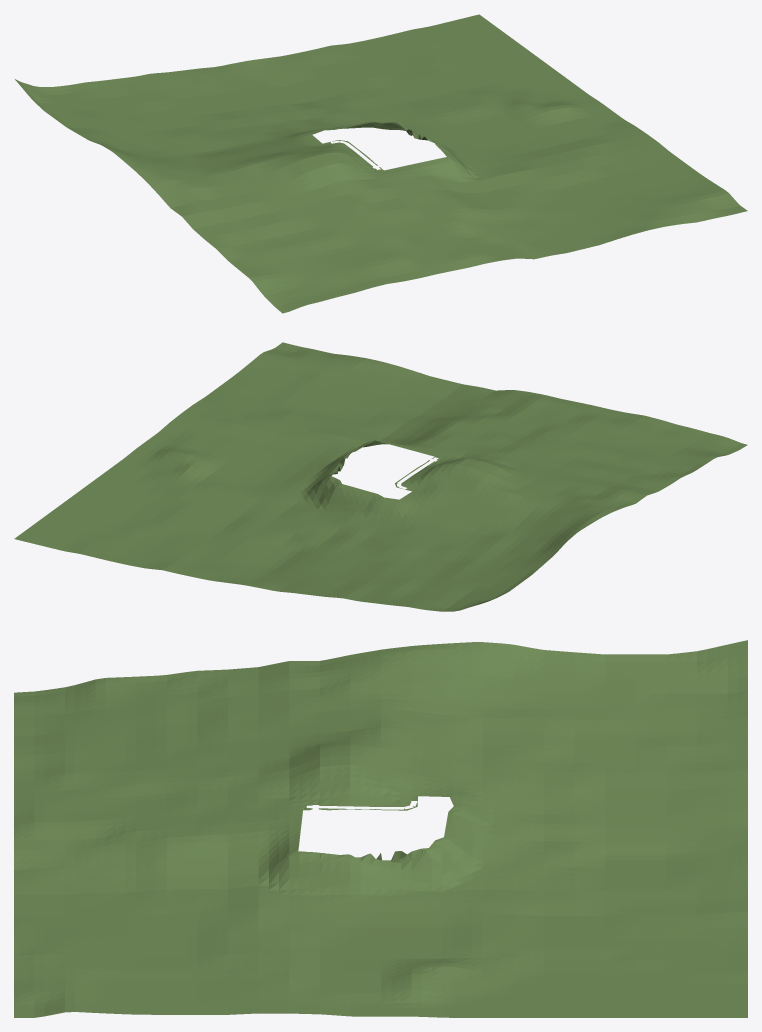
3 views of the same model, one above another, from view 1: azimuth 30°, elevation 25°; view 2: azimuth 150°, elevation 25°; view 3: azimuth 270°, elevation 25° (orthographic). The views are drawn at different scales.
Visible parts, largest first — view 1: surface_context-terrain; view 2: surface_context-terrain; view 3: surface_context-terrain.
Boxes of the visible parts, box(x1,y1,x2,y2) form: surface_context-terrain: box(15, 14, 747, 313); surface_context-terrain: box(14, 342, 747, 611); surface_context-terrain: box(14, 640, 747, 1017).
Bounding box in the file's own units: 720 × 73.16 × 720.
1 material, 1 textured.
